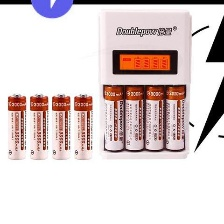battery: (101, 83, 128, 151), (121, 83, 147, 152), (163, 82, 187, 152), (5, 92, 28, 162), (50, 90, 72, 161), (143, 83, 165, 153), (28, 92, 50, 161), (72, 91, 93, 160)
